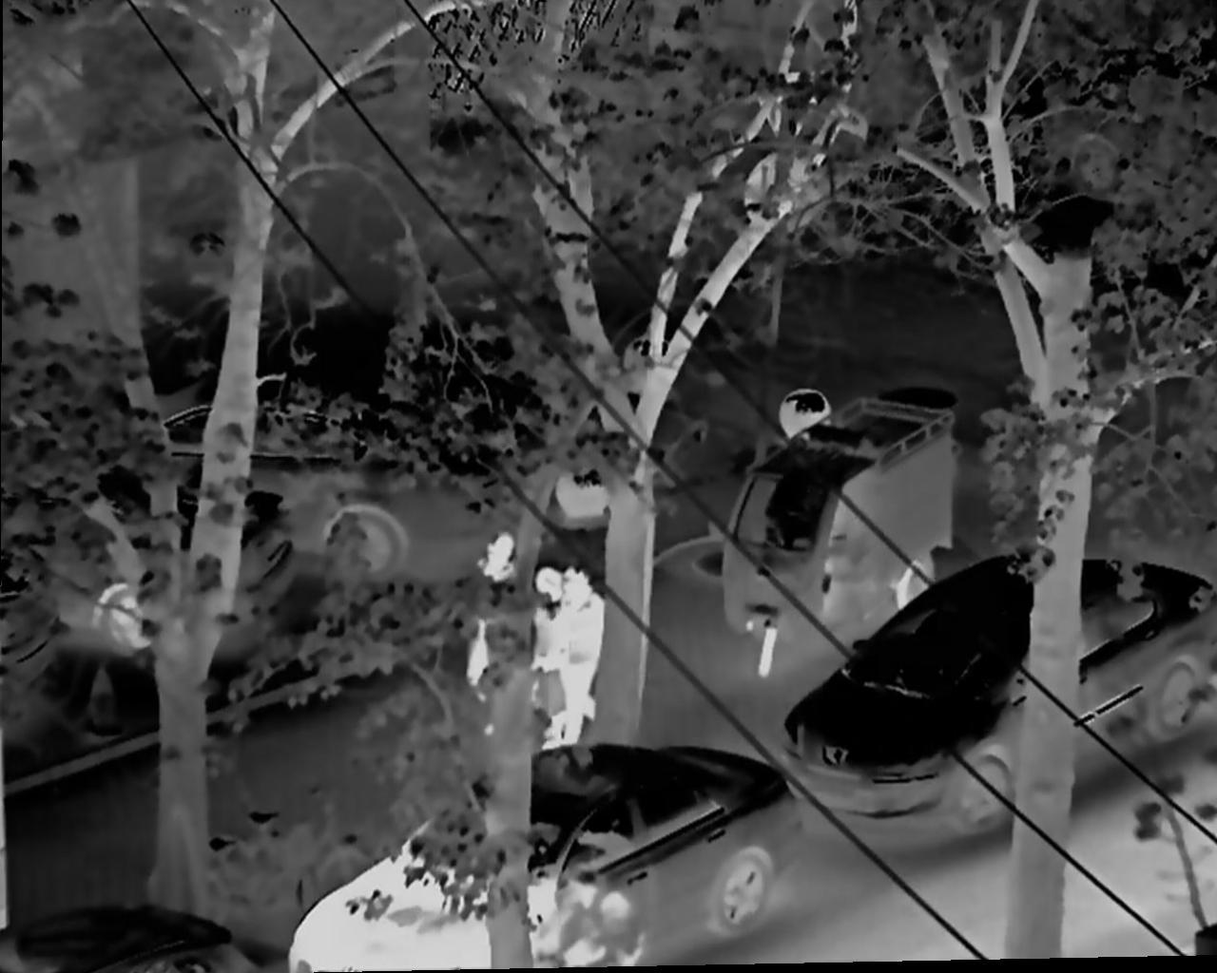person: (469, 533, 527, 741), (554, 562, 608, 754), (532, 566, 565, 732)
